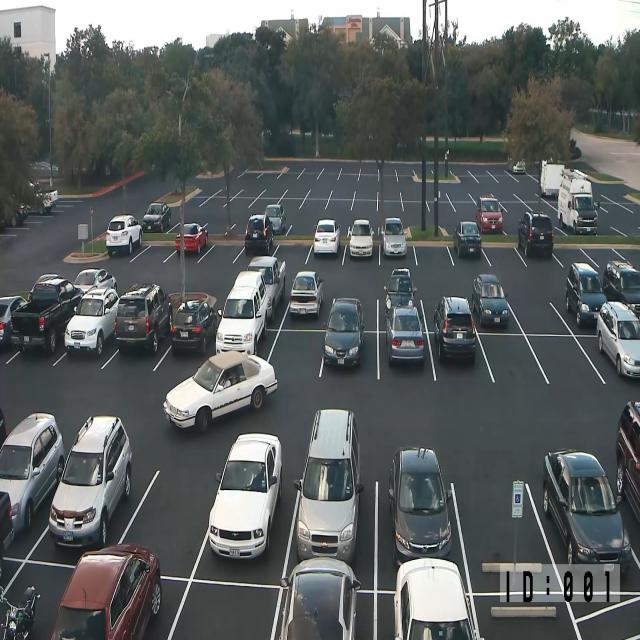car: (48, 414, 132, 548), (293, 407, 364, 563), (542, 449, 632, 571), (50, 543, 162, 639), (208, 431, 282, 560), (163, 350, 278, 433), (0, 411, 65, 537), (388, 445, 452, 565), (270, 556, 361, 640), (394, 556, 485, 640), (10, 274, 84, 354), (215, 270, 269, 356), (115, 282, 172, 354), (64, 286, 119, 356), (596, 300, 640, 378), (615, 399, 640, 524), (323, 296, 365, 368), (433, 295, 476, 363), (565, 261, 607, 327), (170, 298, 217, 356), (246, 256, 286, 322), (558, 172, 598, 235), (384, 304, 424, 365), (0, 584, 41, 640), (602, 259, 640, 317), (472, 274, 509, 327), (517, 210, 554, 258), (289, 270, 323, 318), (383, 268, 417, 314), (106, 214, 142, 255), (0, 294, 27, 346), (0, 489, 15, 576), (73, 268, 118, 296), (244, 213, 273, 253), (475, 195, 503, 234), (347, 218, 374, 258), (454, 220, 482, 258), (175, 222, 208, 254), (380, 217, 407, 256), (313, 218, 341, 255), (142, 202, 171, 232), (264, 203, 286, 235), (30, 160, 58, 172), (0, 405, 7, 453), (43, 188, 58, 208), (16, 202, 28, 225), (512, 158, 526, 174), (28, 180, 40, 196)
